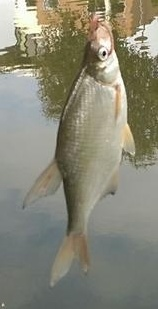Blicca bjoerkna: (20, 20, 138, 289)
